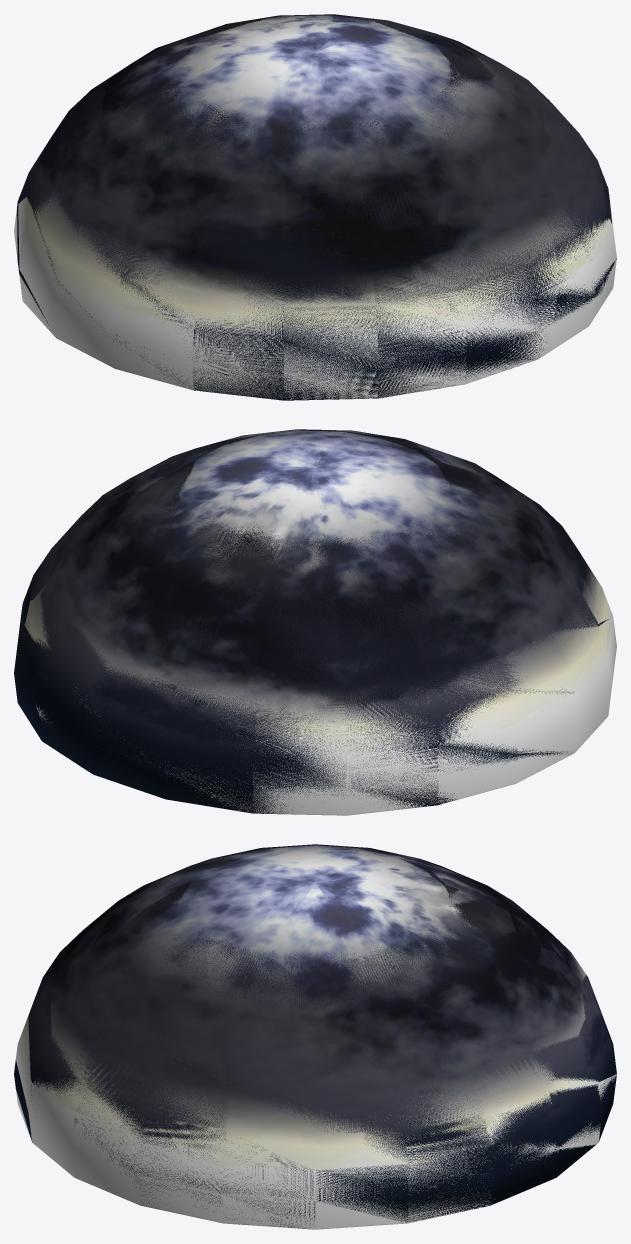
Rendered from MKS_SKYBOX.OBJ.
The picture shows the model from 3 angles, top to bottom: view 1: azimuth 30°, elevation 25°; view 2: azimuth 150°, elevation 25°; view 3: azimuth 270°, elevation 25°; orthographic projection.
Visible parts, largest first — view 1: VRFirst_CubeMap__m_VRFirst_CubeMap, VRFirst1__m_VRFirst; view 2: VRFirst_CubeMap__m_VRFirst_CubeMap, VRFirst1__m_VRFirst; view 3: VRFirst_CubeMap__m_VRFirst_CubeMap, VRFirst1__m_VRFirst.
Boxes of the visible parts, bbox=[...] form: VRFirst_CubeMap__m_VRFirst_CubeMap: bbox=[14, 15, 616, 400]; VRFirst1__m_VRFirst: bbox=[17, 14, 616, 400]; VRFirst_CubeMap__m_VRFirst_CubeMap: bbox=[22, 429, 616, 815]; VRFirst1__m_VRFirst: bbox=[14, 429, 608, 814]; VRFirst_CubeMap__m_VRFirst_CubeMap: bbox=[15, 845, 616, 1229]; VRFirst1__m_VRFirst: bbox=[14, 844, 616, 1228].
Size of the model in its own units: 100892 by 40836 by 100892.
